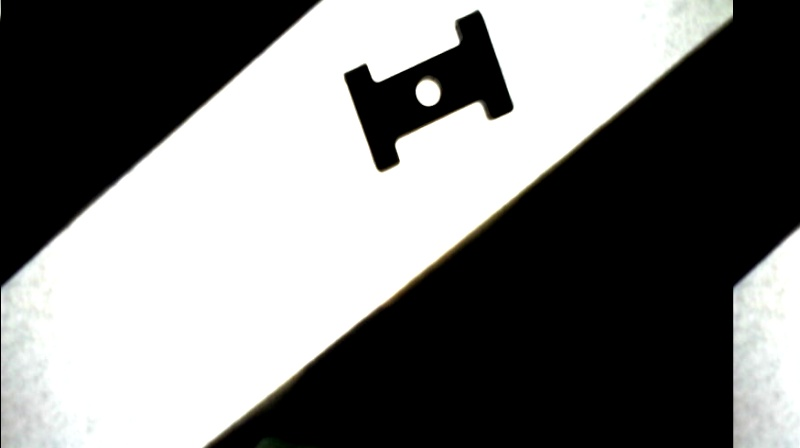O002: (339, 7, 518, 177)
